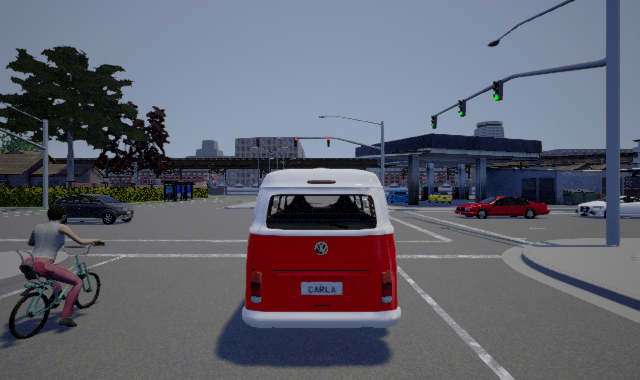bike: (8, 204, 106, 338)
traffic_light: (493, 80, 503, 101), (458, 99, 466, 117), (431, 115, 437, 129), (256, 137, 260, 147), (327, 137, 330, 147), (294, 137, 297, 147)
vehicle: (242, 167, 401, 328), (46, 194, 134, 224), (454, 196, 550, 219), (575, 189, 640, 218), (427, 191, 456, 205), (387, 190, 409, 205)
